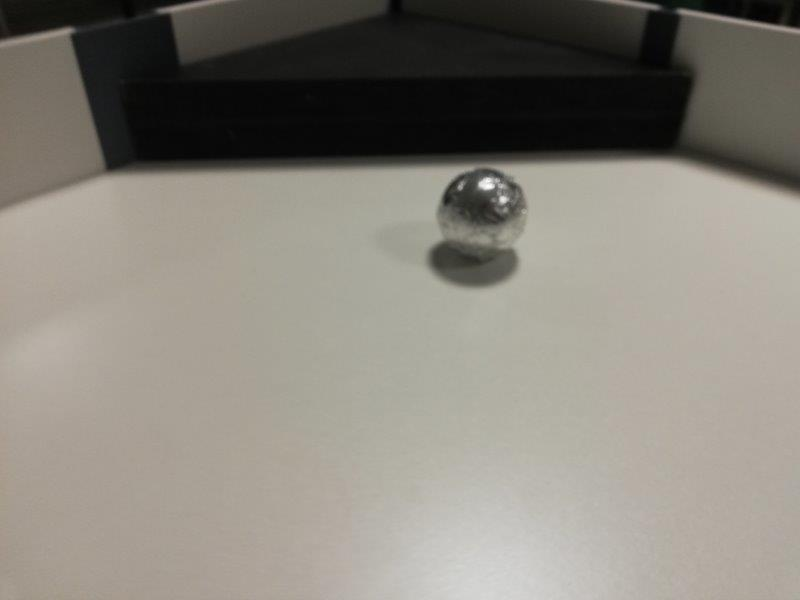bianca: (436, 168, 531, 263)
